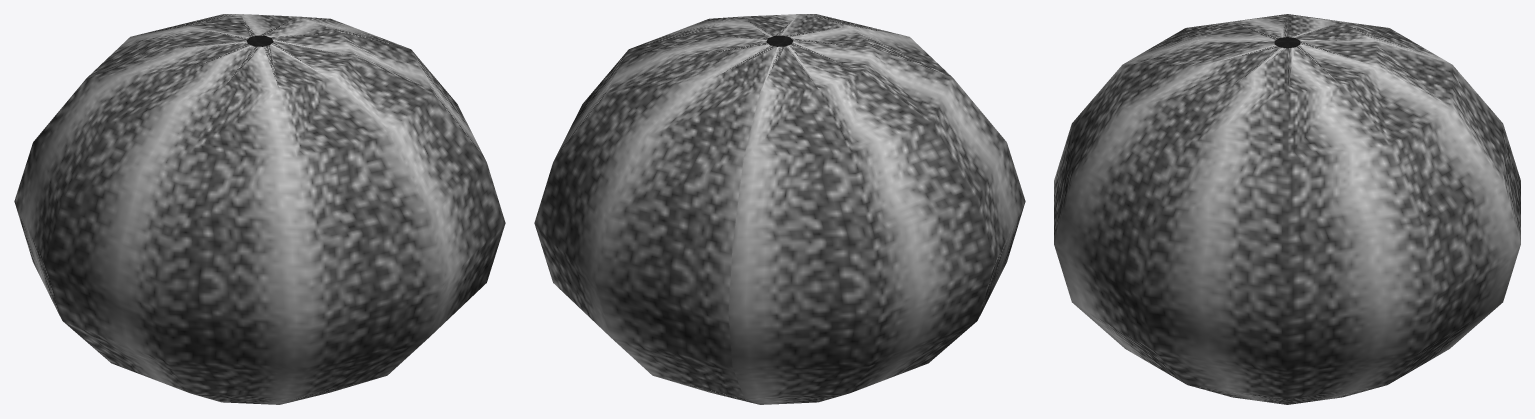
Rendered from urchinBlack.fbx.
The picture shows the model from 3 angles, left to right: view 1: azimuth 30°, elevation 25°; view 2: azimuth 150°, elevation 25°; view 3: azimuth 270°, elevation 25°; orthographic projection.
Visible parts, largest first — view 1: urchinBlackObject; view 2: urchinBlackObject; view 3: urchinBlackObject.
Boxes of the visible parts, <box> form: urchinBlackObject: <box>14,14,505,404</box>; urchinBlackObject: <box>534,14,1025,404</box>; urchinBlackObject: <box>1054,14,1520,404</box>.
Size of the model in its own units: 0.0919 by 0.0666 by 0.0874.
1 material, 1 textured.
